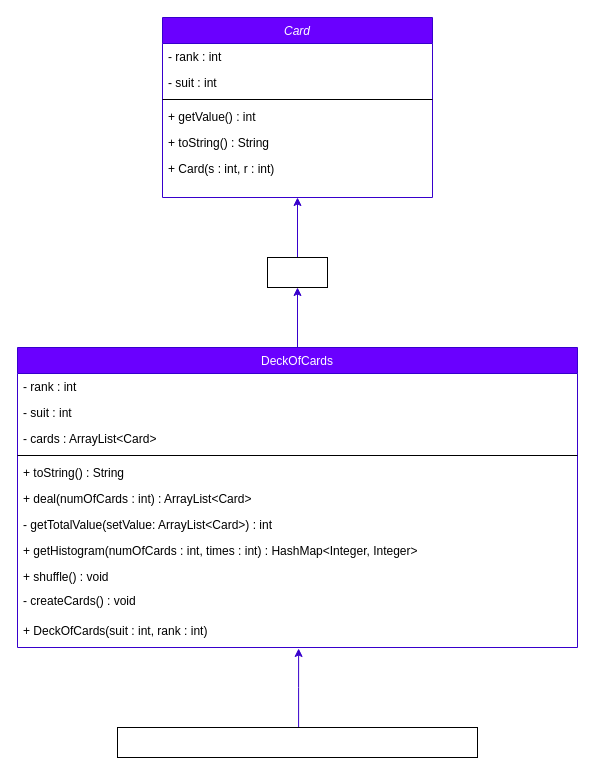
This 595x775 diagram has some shape labels left out. The shapes that lost their labels are listed below. From the top down, each one's box as (x1, y1, x2, y2) in pixels, then its label:
(266, 256, 328, 288): int
(116, 726, 478, 758): java.util.ArrayList<models.Card>
